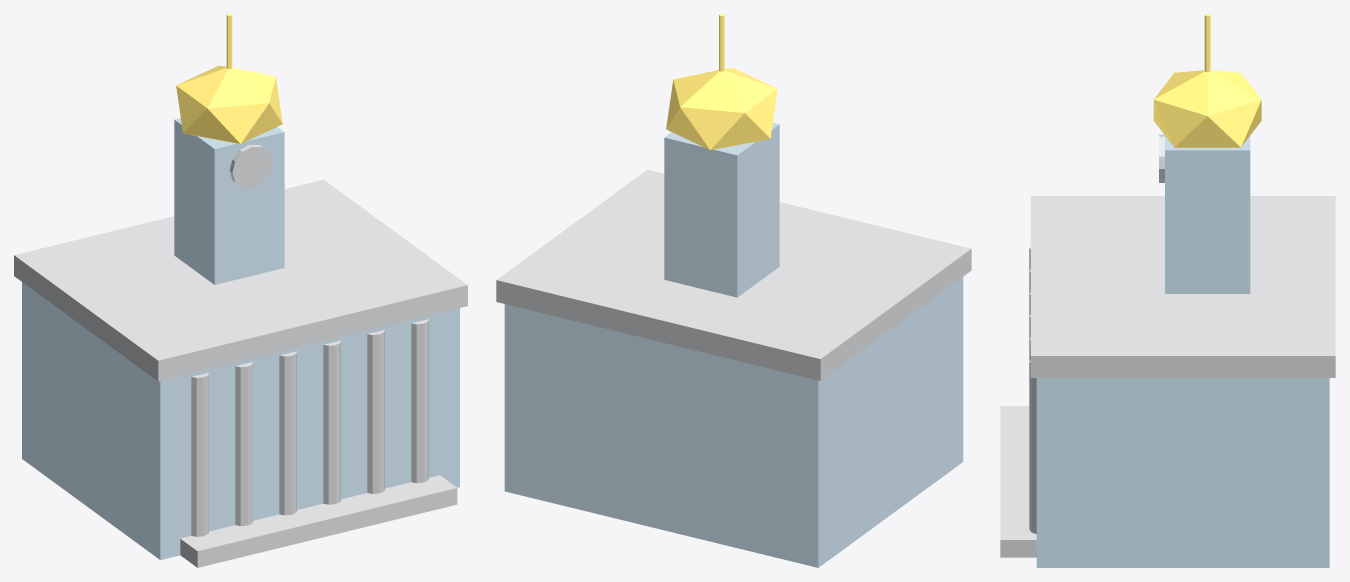
File: government.glb
The picture shows the model from 3 angles, left to right: view 1: azimuth 30°, elevation 25°; view 2: azimuth 150°, elevation 25°; view 3: azimuth 270°, elevation 25°; orthographic projection. The views are drawn at different scales.
Visible parts, largest first — view 1: government; view 2: government; view 3: government.
Boxes of the visible parts, left/top/right/bottom form: government: left=14, top=14, right=467, bottom=567; government: left=496, top=14, right=971, bottom=567; government: left=1000, top=14, right=1335, bottom=567.
Size of the model in its own units: 1.55 by 2.15 by 1.38.
